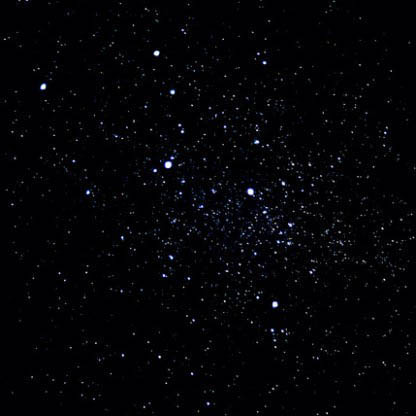Cassiopeia: (139, 46, 195, 106), (234, 173, 264, 203), (256, 290, 289, 317), (151, 152, 181, 180), (27, 73, 59, 98)
